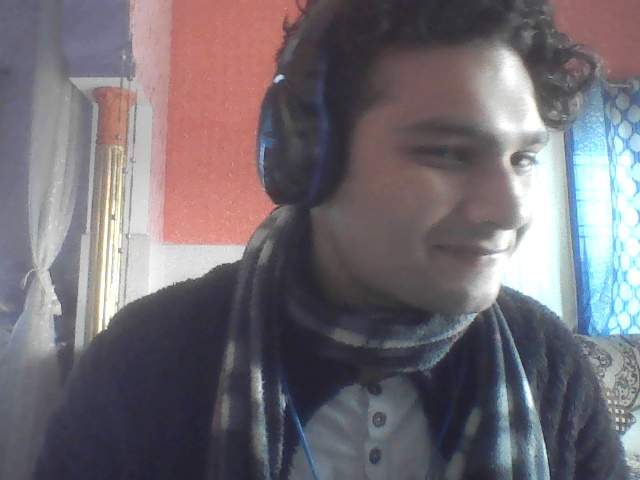real: (294, 0, 564, 382)
